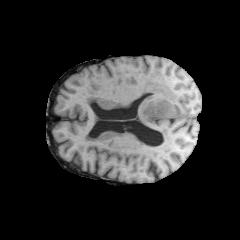glioma: (127, 69, 180, 132)
